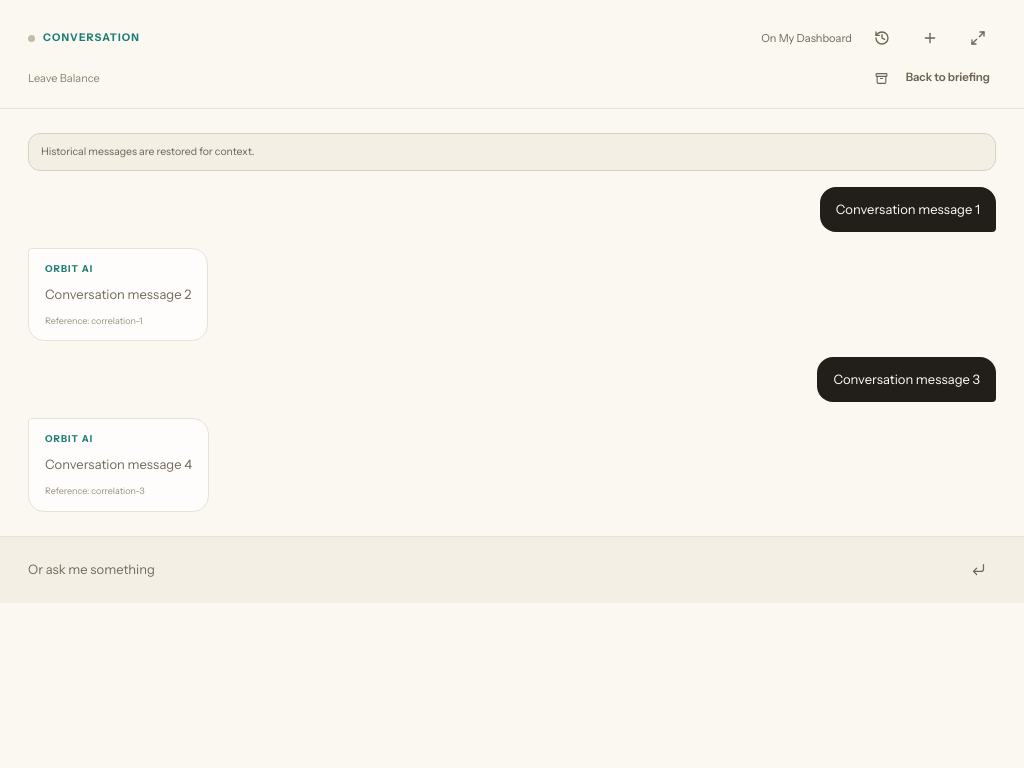
Scenario: OrbitAIBriefing panel layout and scrolling › restores a backend conversation and Back to briefing preserves it in history
Check: the text "Conversation message 4" is shown, box [45,453,192,475]
Click the button "Back to briefing" at (948, 78), box [900,65,996,91]
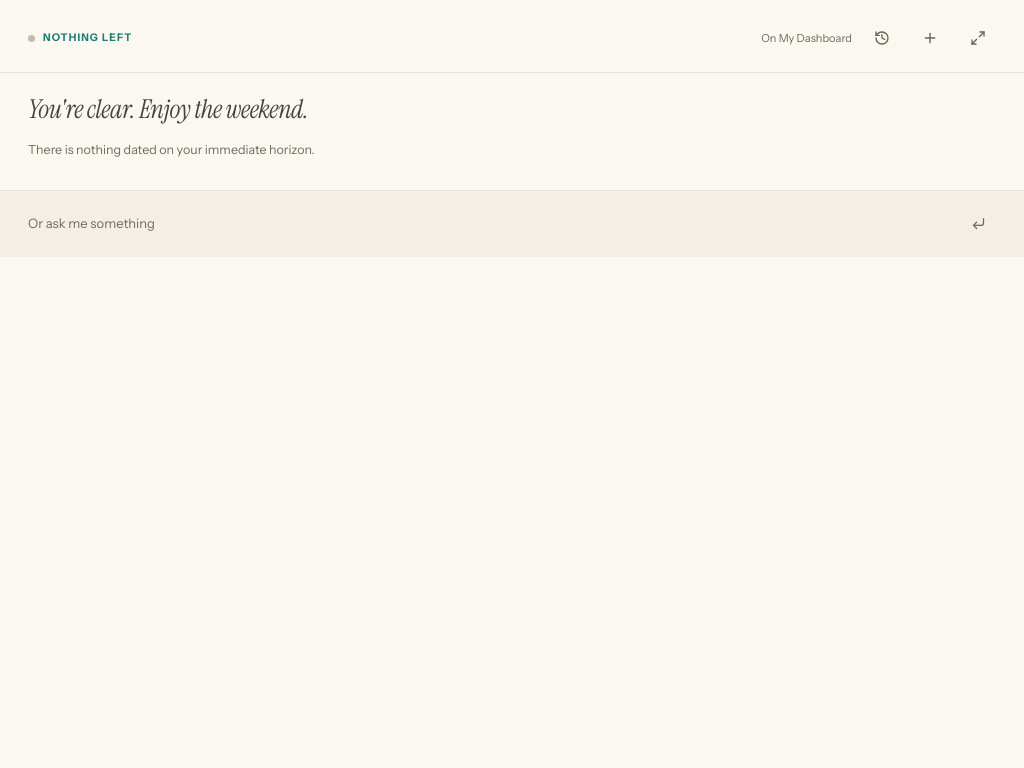
Check: the text "Conversation message 4" is gone
